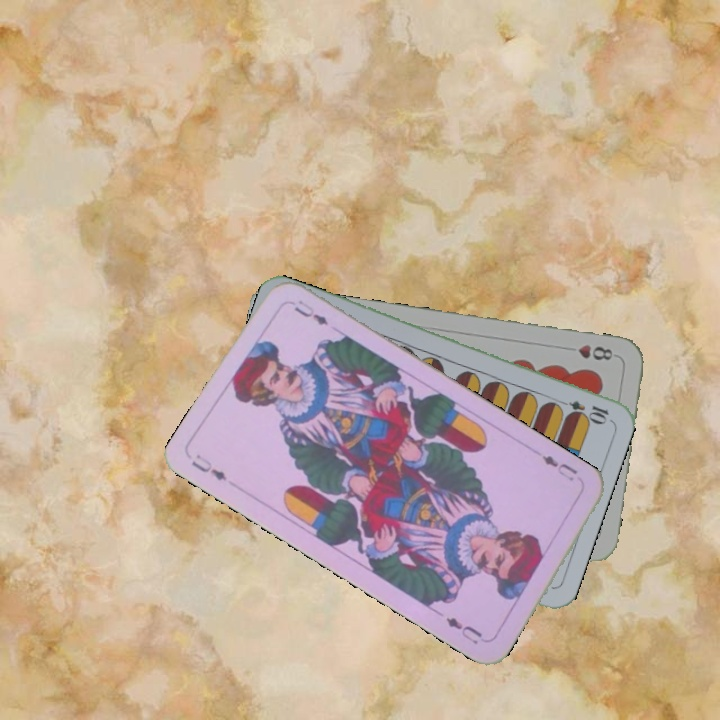E10: (553, 395, 611, 424)
EU: (187, 450, 230, 484), (537, 451, 580, 484)
H8: (560, 340, 616, 363)
